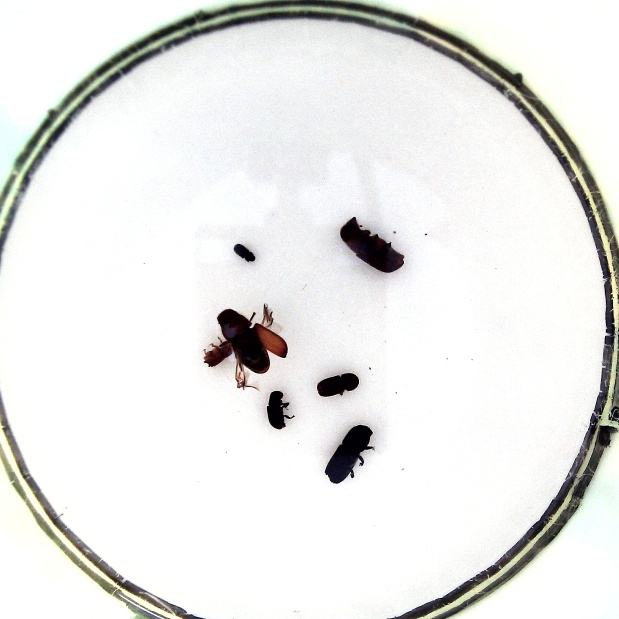acuminatus: (204, 336, 231, 370)
armandi: (265, 385, 297, 434)
boerner: (322, 423, 376, 485)
coleoptera: (230, 240, 258, 266)
leconte: (219, 306, 288, 385), (339, 217, 408, 273)
linnaeus: (314, 371, 361, 396)
